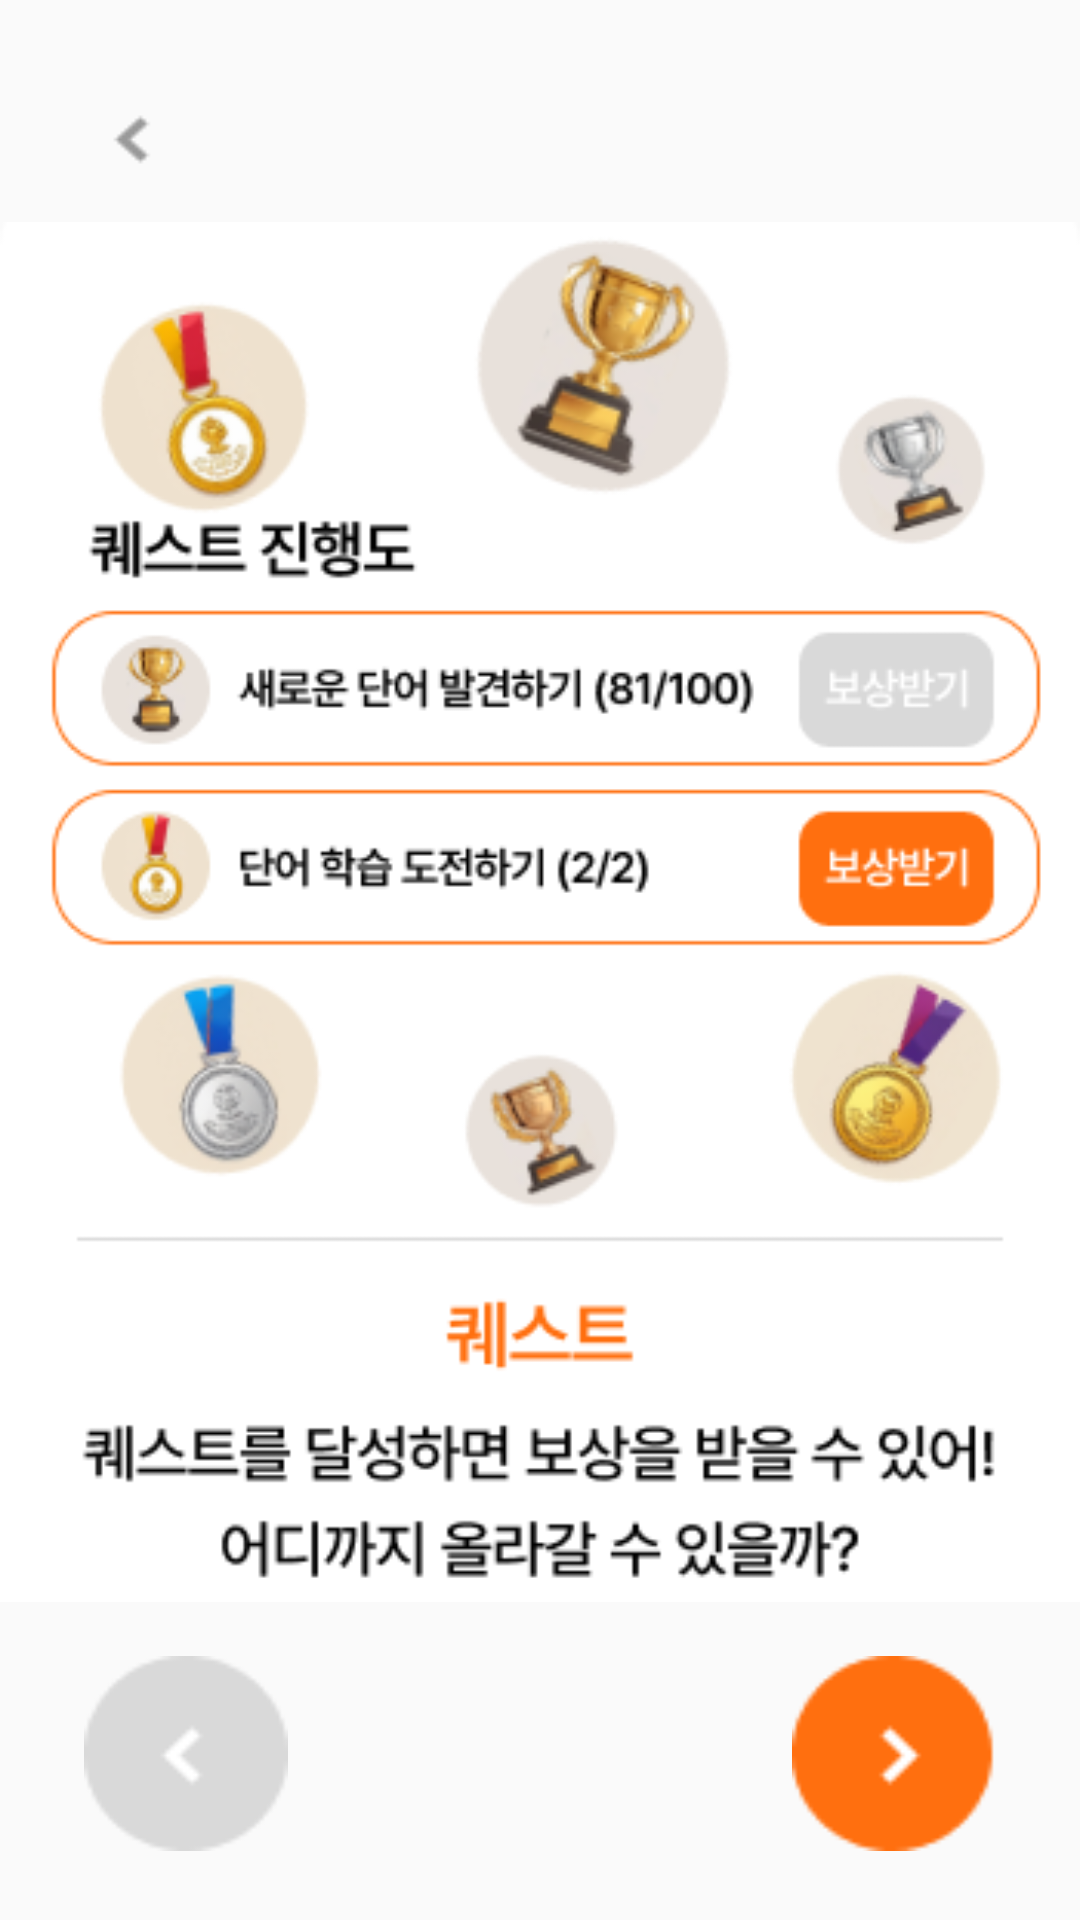

Named icons in this screenshot (1080px×1920px) and their centers, (x=x, y=y):
back4: (x=131, y=139)
before7: (x=186, y=1753)
next9: (x=893, y=1753)
